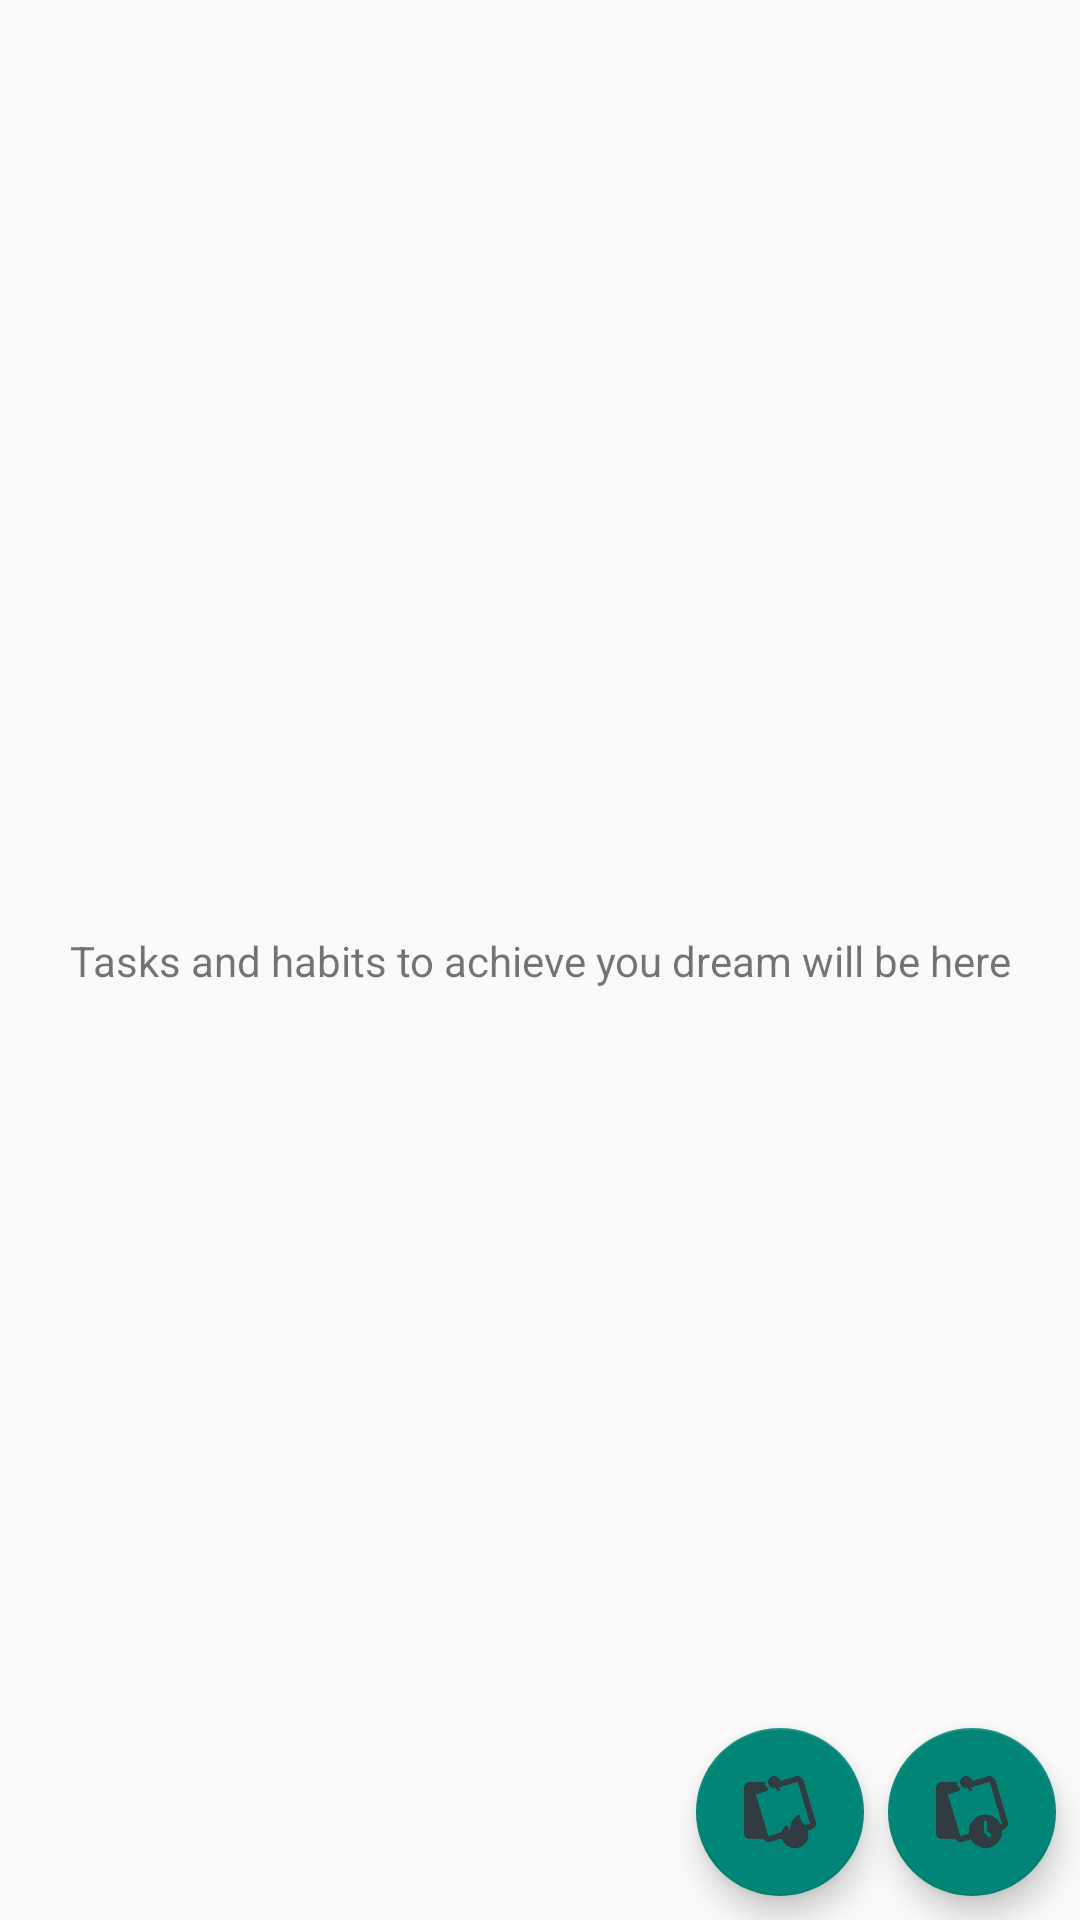

Named icons in this screenshot (1080 × 1920) and their bounding boxes, box(x1, y1, x2, y2):
habit: box(888, 1728, 1056, 1896)
task: box(696, 1728, 864, 1896)
